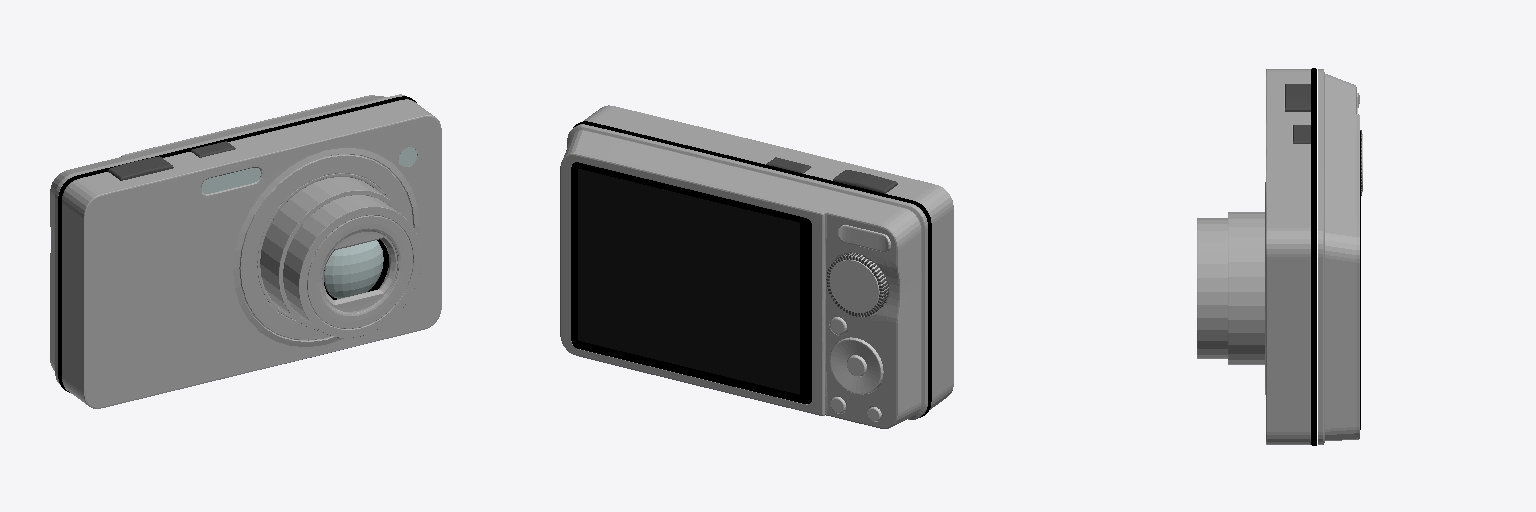
The model's file is digital_camera_V3.obj.
3 renders of one model, left to right at view 1: azimuth 30°, elevation 25°; view 2: azimuth 150°, elevation 25°; view 3: azimuth 270°, elevation 25°, orthographic.
Visible parts, largest first — view 1: 10818_DigitalCamera_v2; view 2: 10818_DigitalCamera_v2; view 3: 10818_DigitalCamera_v2.
Boxes of the visible parts, x1=… form: 10818_DigitalCamera_v2: x1=50, y1=94, x2=441, y2=408; 10818_DigitalCamera_v2: x1=560, y1=105, x2=953, y2=428; 10818_DigitalCamera_v2: x1=1197, y1=68, x2=1362, y2=445.
Bounding box in the file's own units: 15.2 × 8.83 × 6.04.